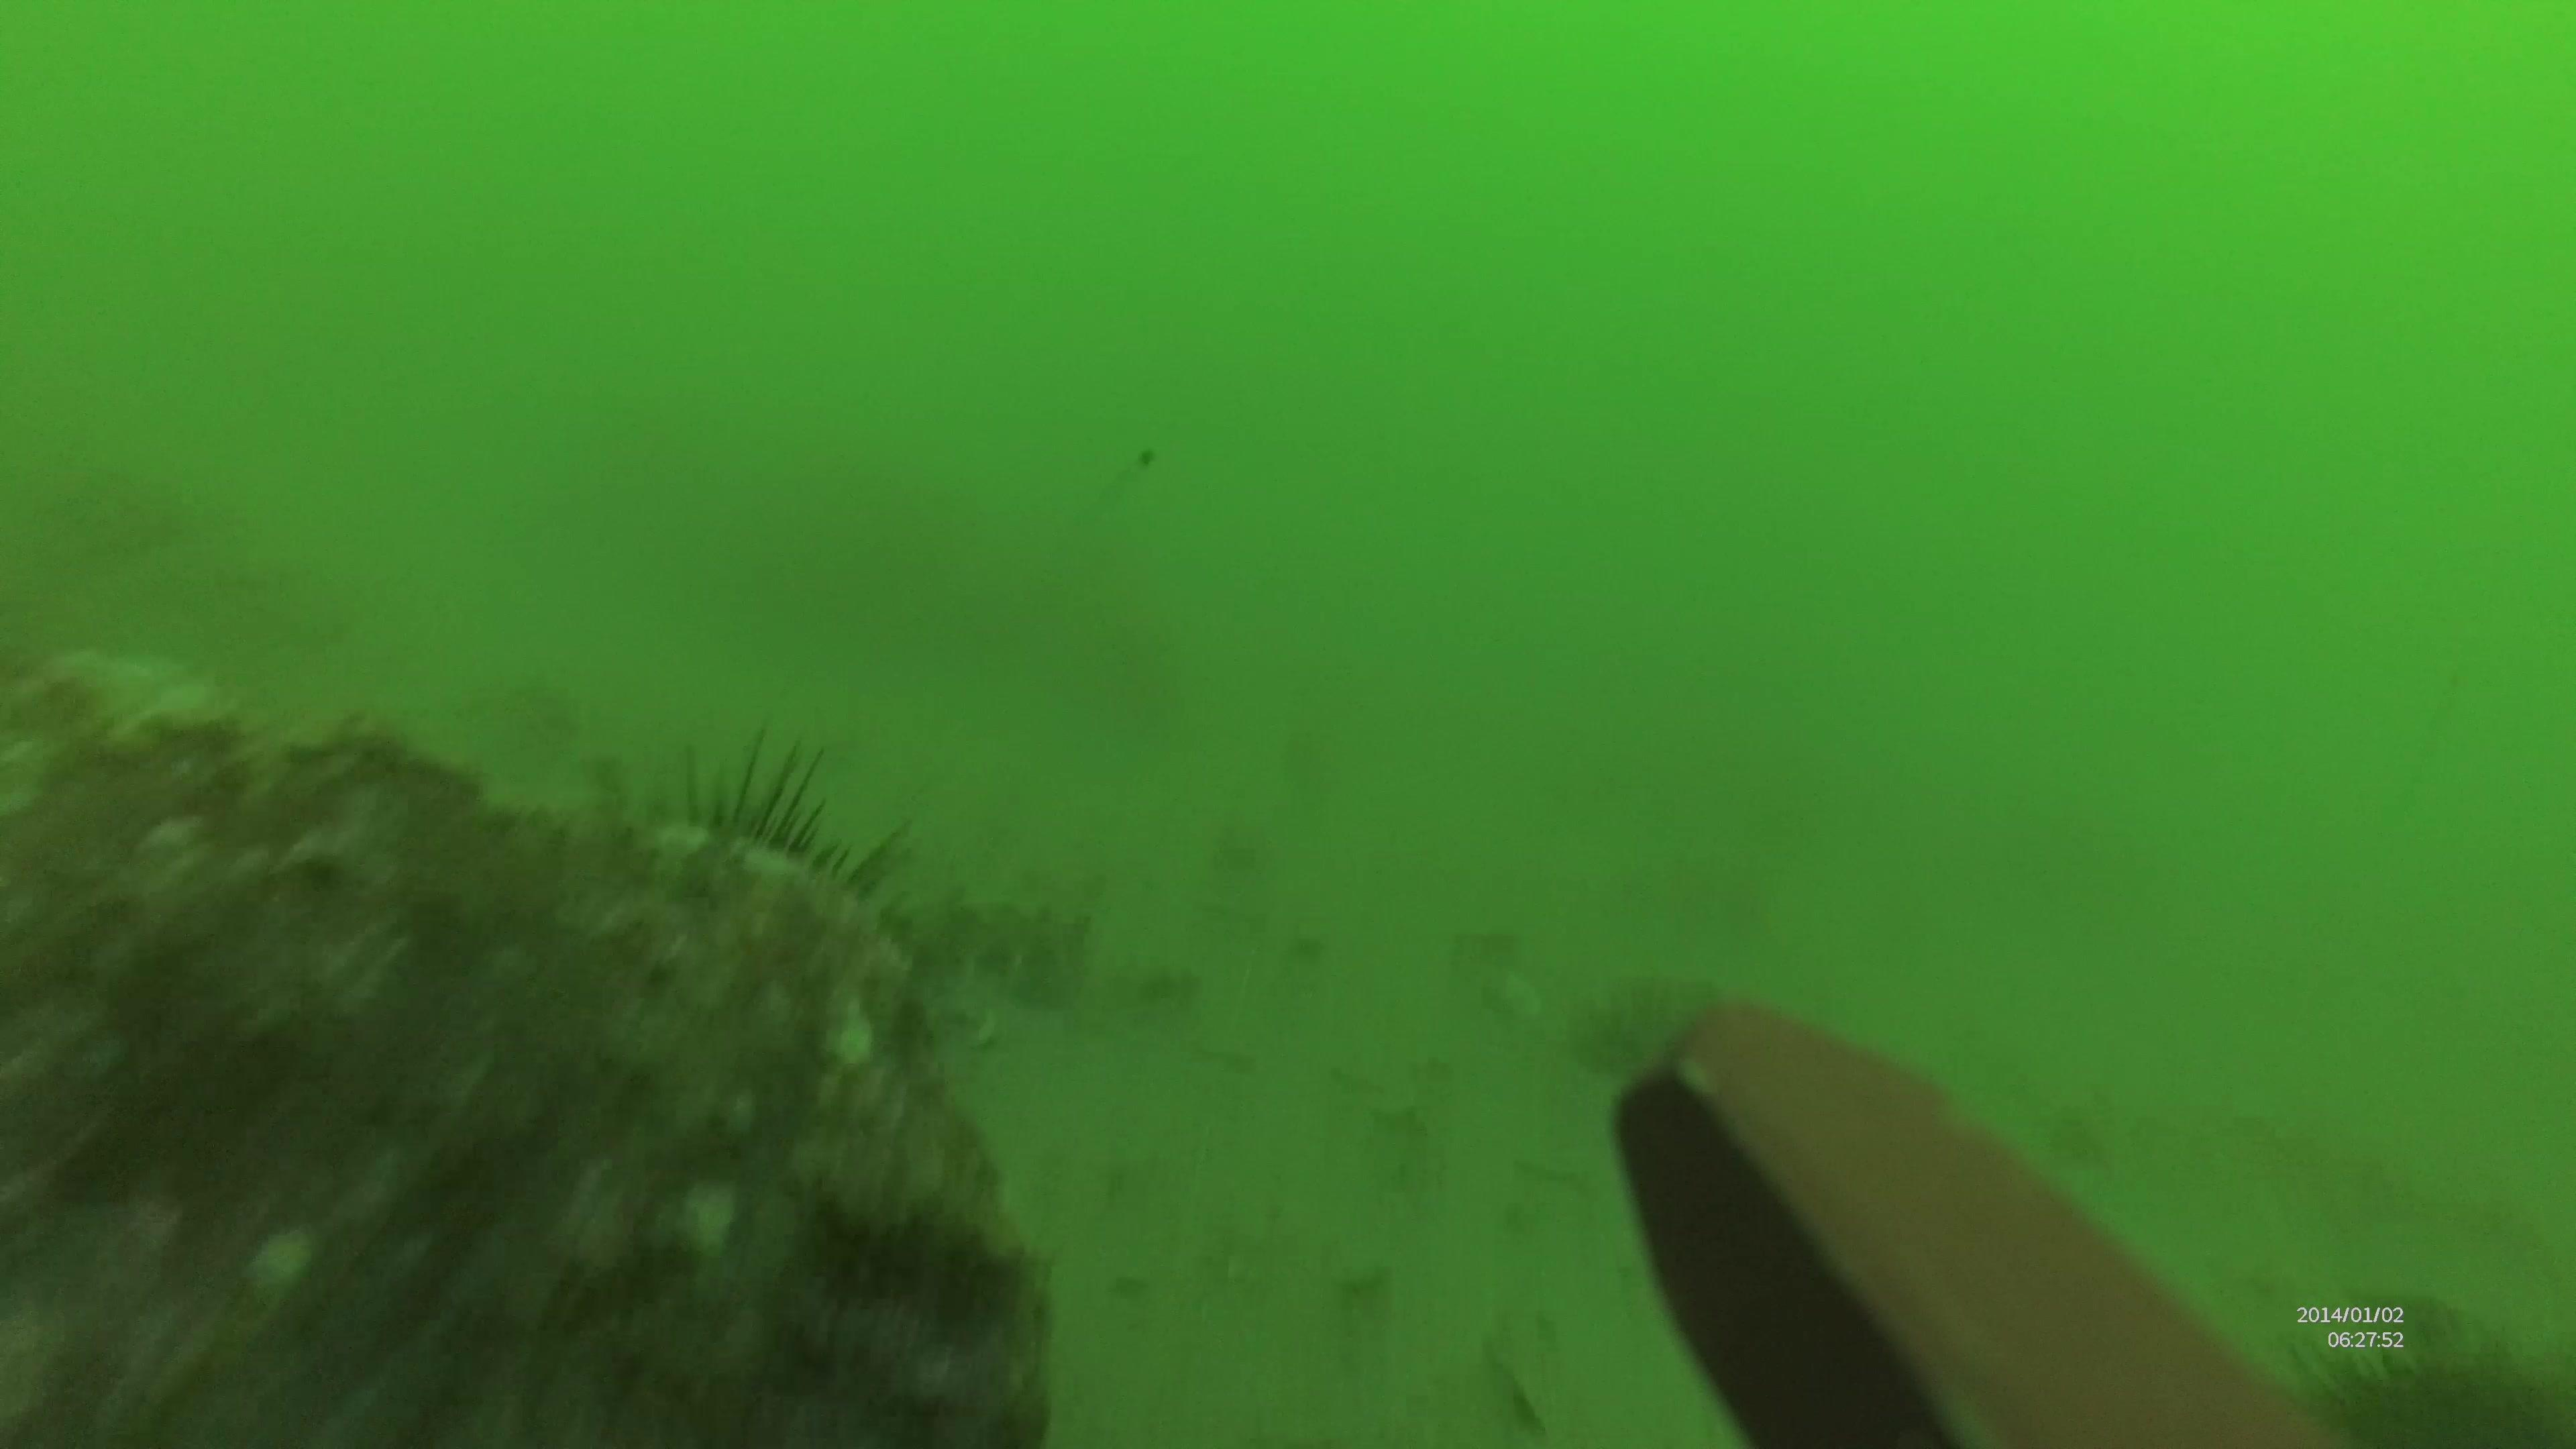echinus: (610, 718, 936, 1005), (2224, 1288, 2576, 1449)
holothurian: (862, 897, 1086, 1010)
